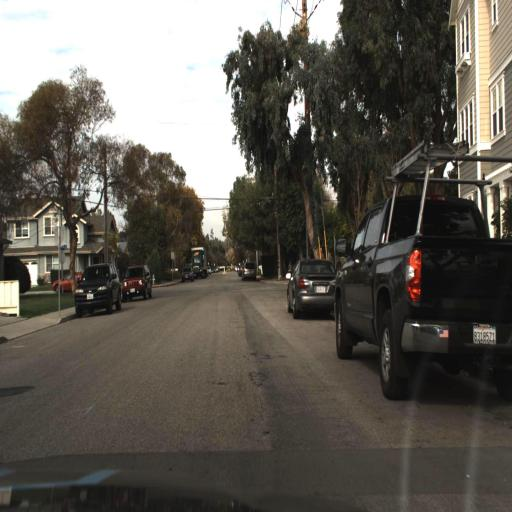car: (336, 191, 512, 404), (283, 251, 338, 312), (73, 259, 125, 318), (123, 266, 154, 300), (241, 261, 258, 282), (180, 265, 194, 281)
truck: (189, 246, 207, 276)
